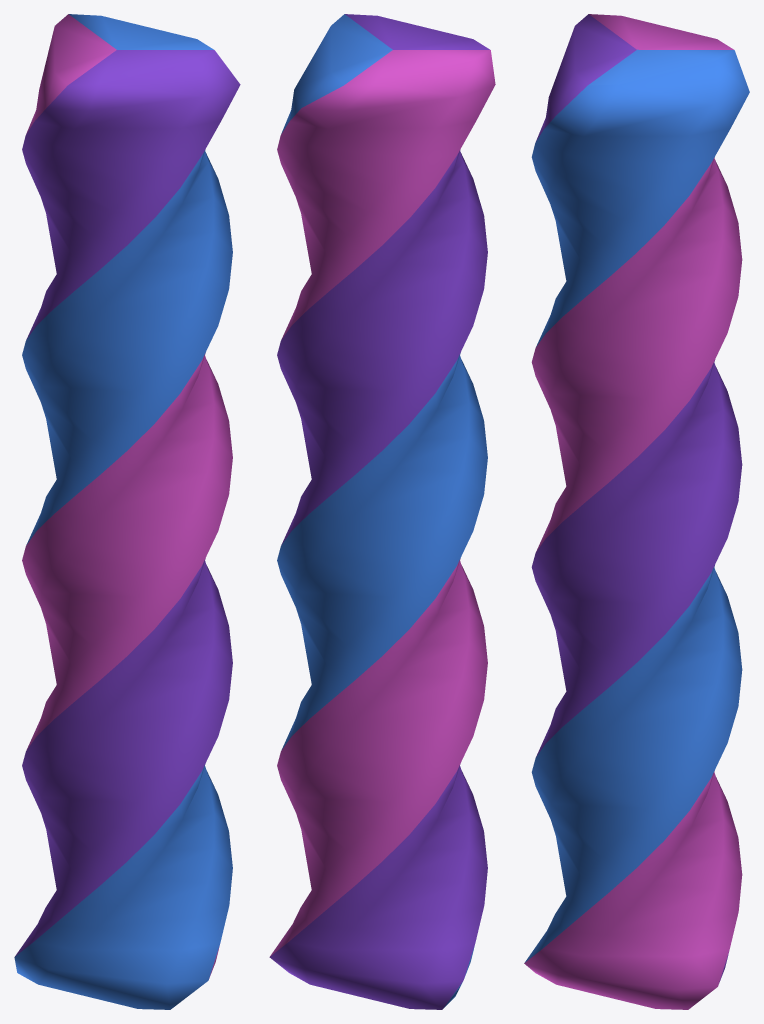
The model's file is lollipop_018.glb.
The picture shows the model from 3 angles, left to right: view 1: azimuth 30°, elevation 25°; view 2: azimuth 150°, elevation 25°; view 3: azimuth 270°, elevation 25°; orthographic projection.
Visible parts, largest first — view 1: lollipop_018; view 2: lollipop_018; view 3: lollipop_018.
Boxes of the visible parts, x1,y1,x2,y2 form: lollipop_018: (14, 14, 240, 1009); lollipop_018: (269, 14, 495, 1009); lollipop_018: (524, 14, 749, 1009).
Bounding box in the file's own units: 1.66 × 7.79 × 1.73.
Materials: 1 (1 with a texture image).
